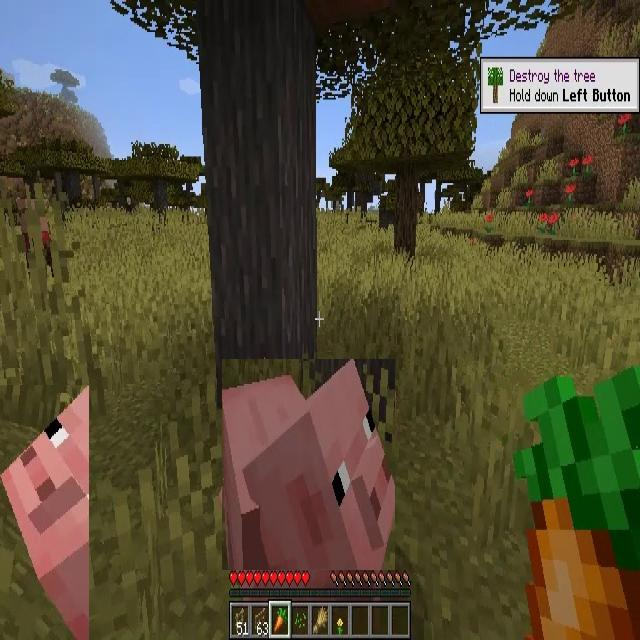pig: (222, 359, 395, 570), (0, 385, 89, 640)
